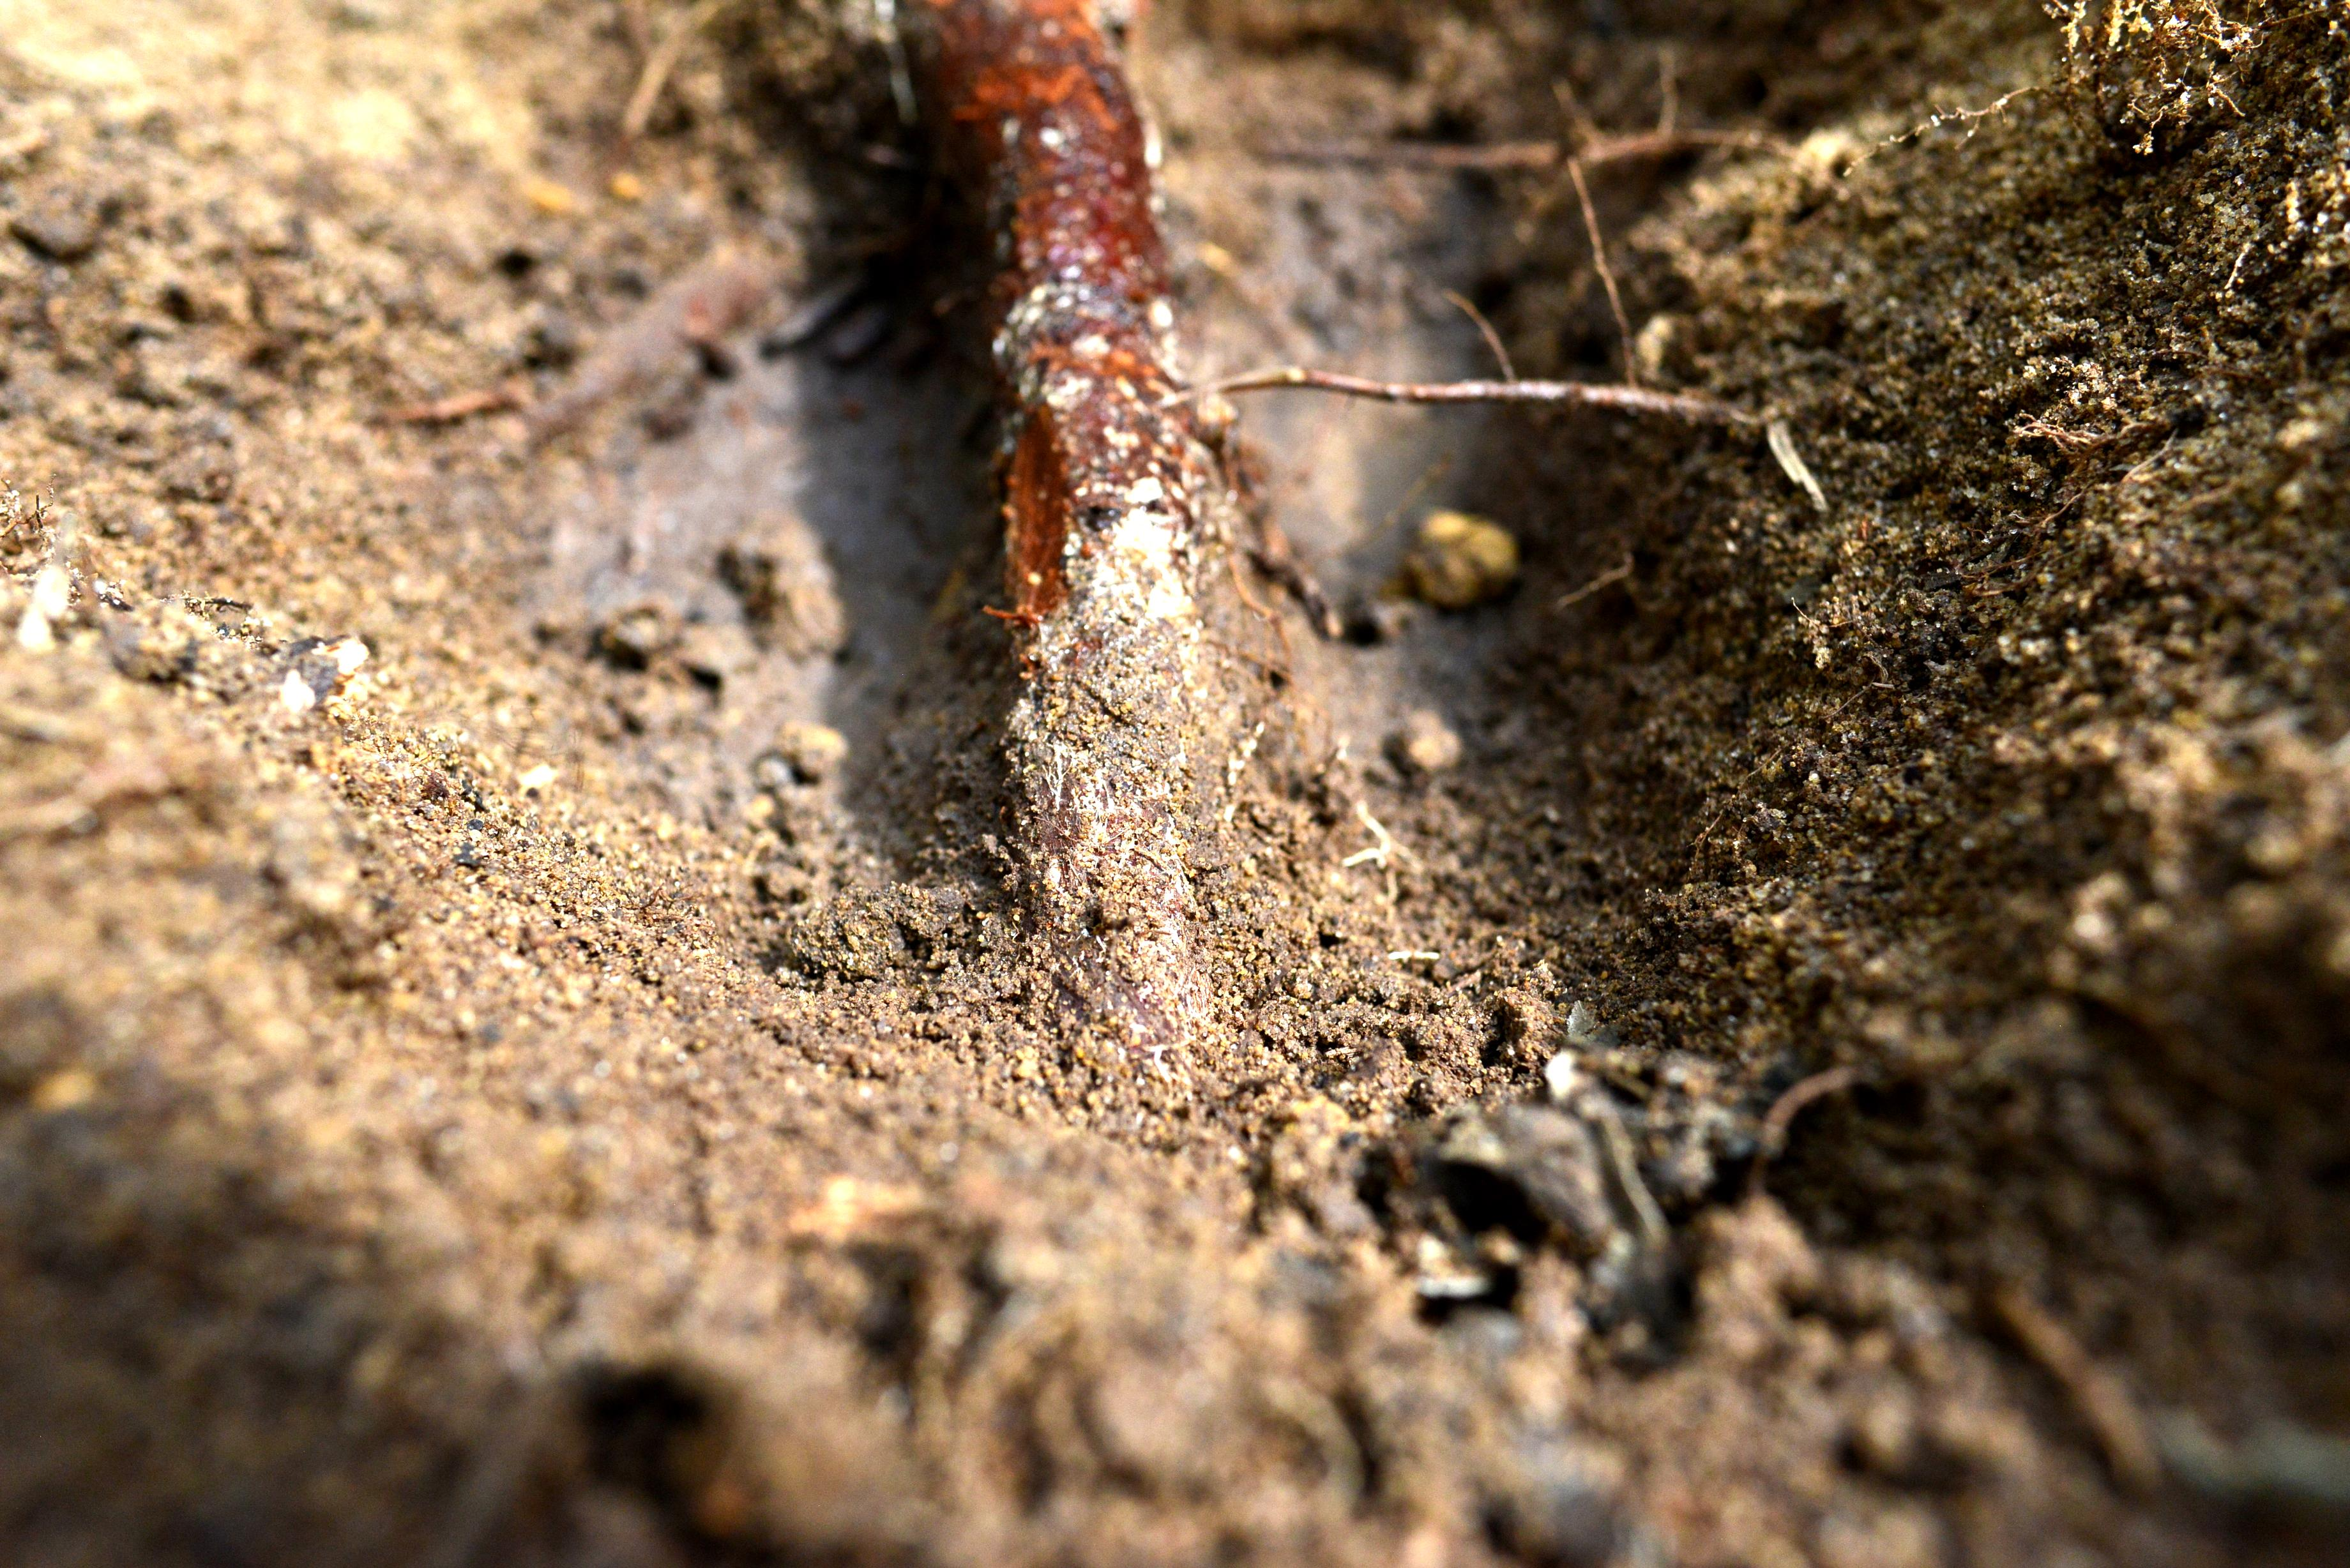Ganoderma - Mycelium: (1018, 511, 1214, 1095), (1006, 89, 1153, 413)
Red Root Rot - Secretion: (863, 0, 1262, 500)
